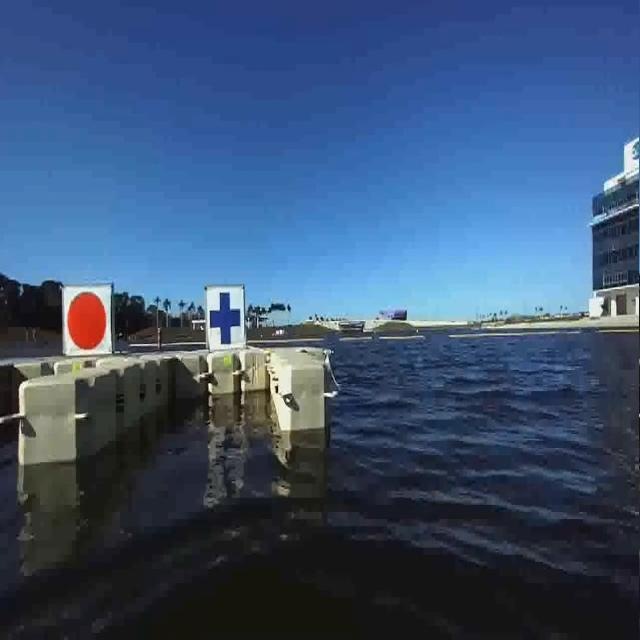blue-cross: (202, 282, 252, 357)
red-dot: (60, 282, 118, 356)
